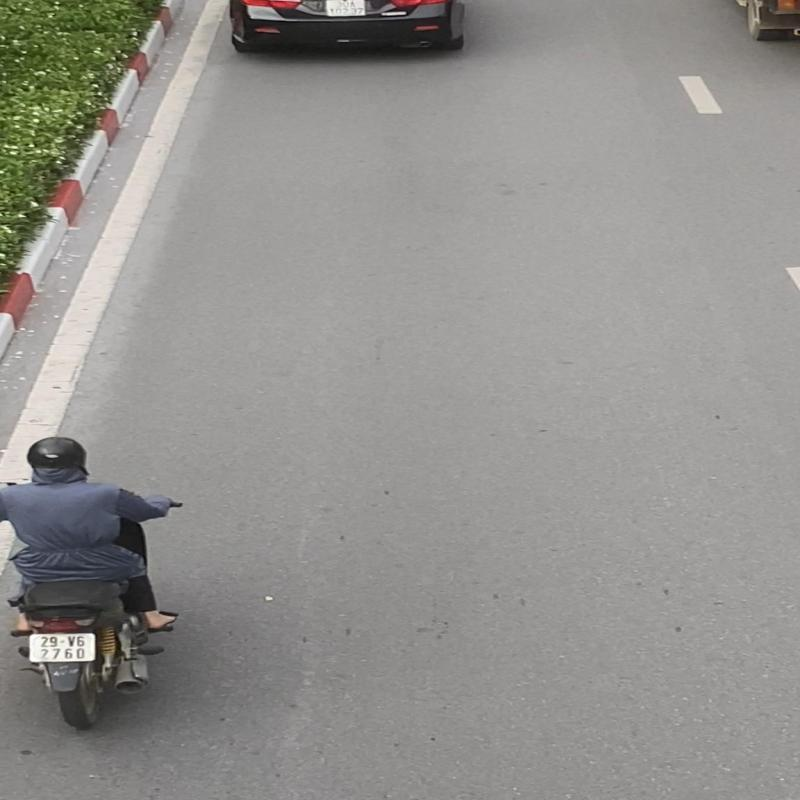helmet: (25, 437, 88, 472)
licenseplate: (25, 631, 100, 664)
motorcyclist: (0, 436, 179, 730)
